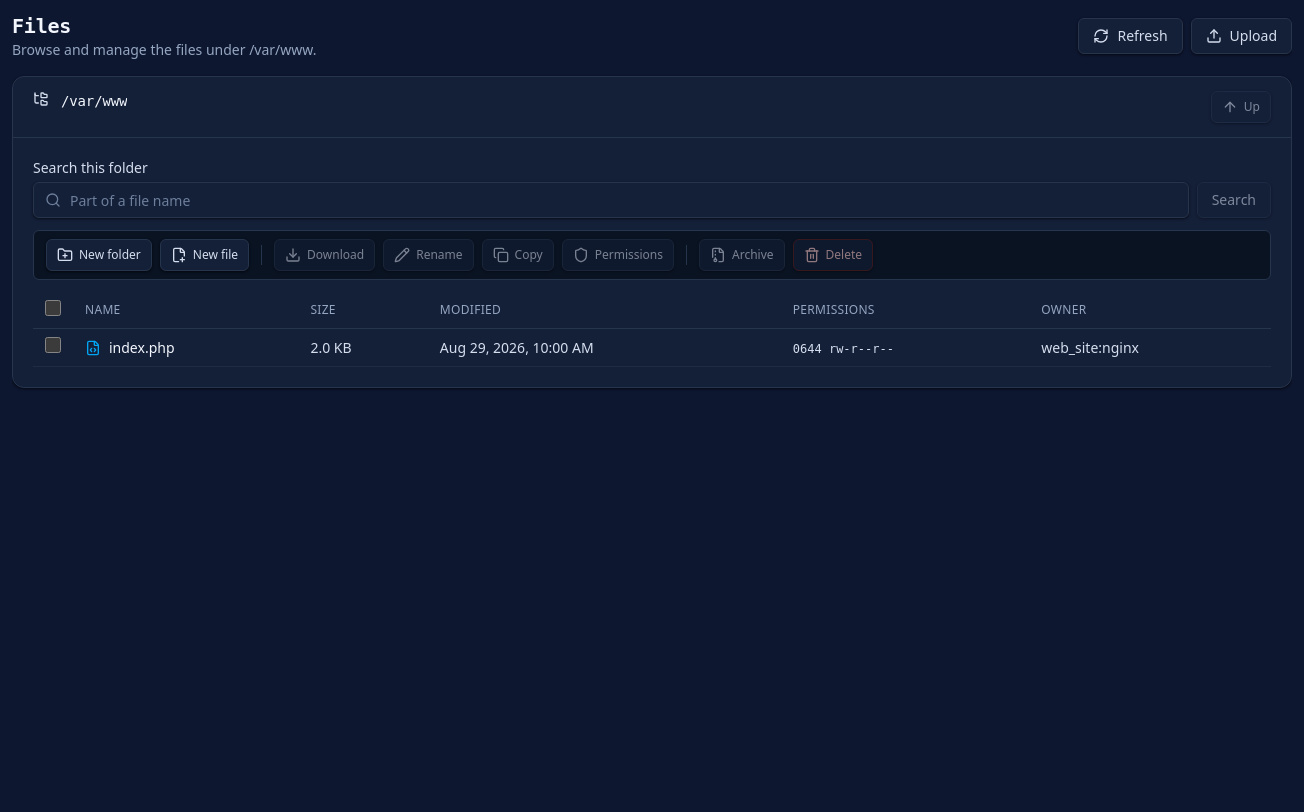
Scenario: FilesPage file actions › opens an action menu when a file is clicked
The image size is (1304, 812).
Click the button "index.php" at [142, 348], box [109,338,174,358]
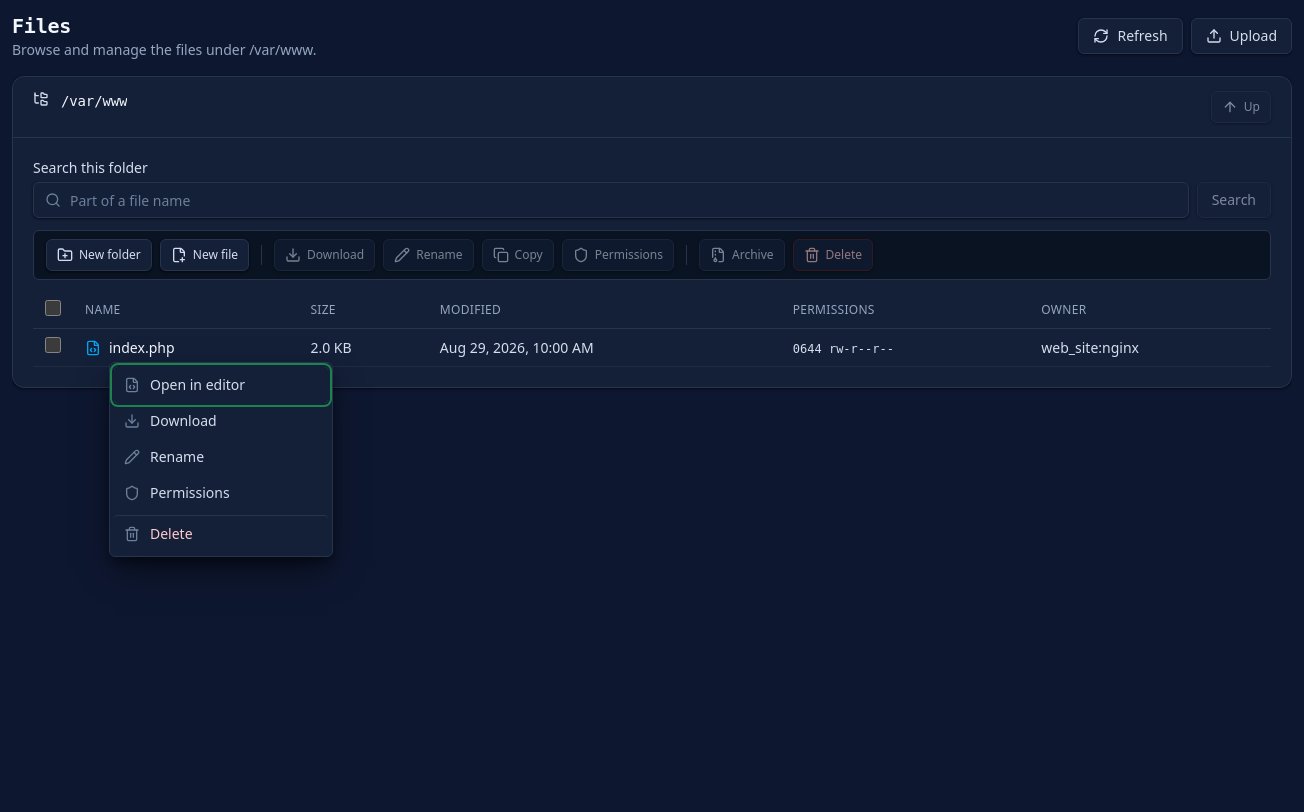
Expected: the menu item "Open in editor" is shown, [114,366,328,402]
Expected: the menu item "Download" is shown, [114,402,328,438]
Expected: the menu item "Rename" is shown, [114,438,328,474]
